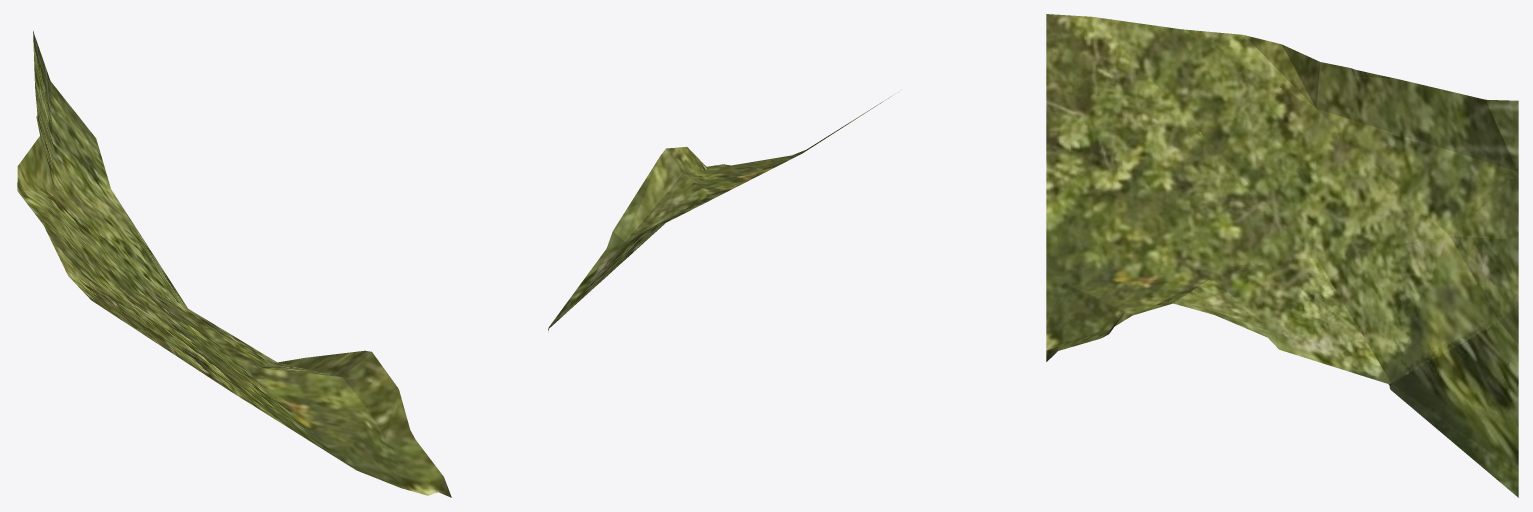
The picture shows the model from 3 angles, left to right: view 1: azimuth 30°, elevation 25°; view 2: azimuth 150°, elevation 25°; view 3: azimuth 270°, elevation 25°; orthographic projection. The views are drawn at different scales.
Bounding box in the file's own units: 1.96 × 2.42 × 2.95.
2 materials, 2 textured.
